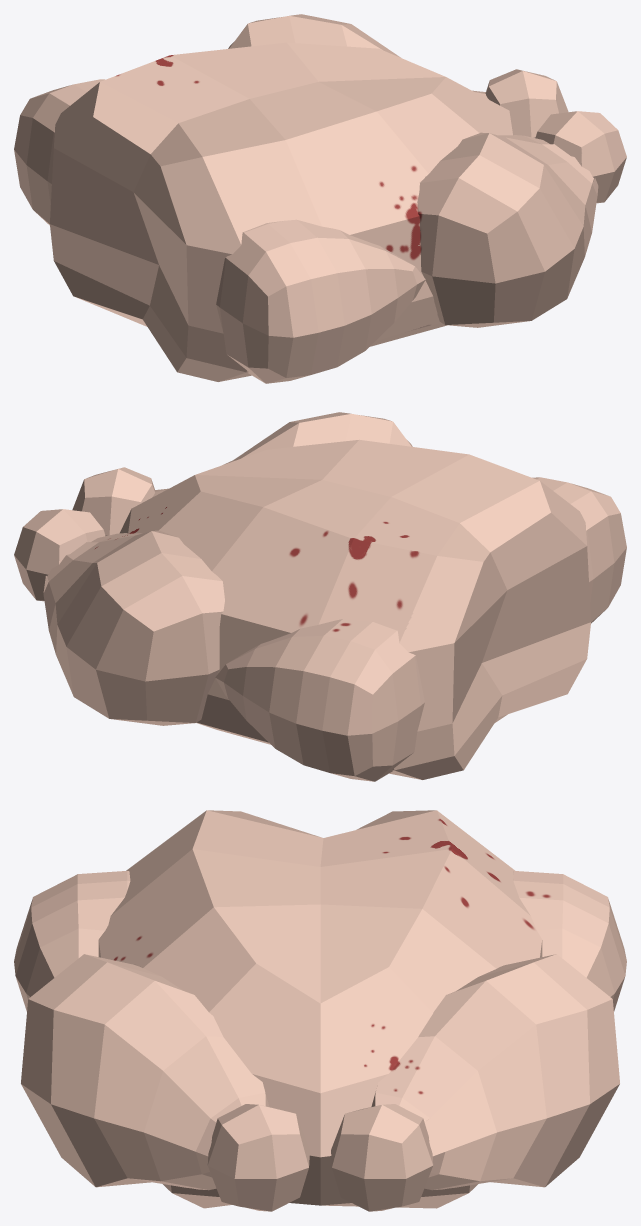
Rendered from chimken.fbx.
3 views of the same model, one above another, from view 1: azimuth 30°, elevation 25°; view 2: azimuth 150°, elevation 25°; view 3: azimuth 270°, elevation 25° (orthographic). The views are drawn at different scales.
Visible parts, largest first — view 1: Cube; view 2: Cube; view 3: Cube.
Boxes of the visible parts, bbox=[...] form: Cube: bbox=[14, 14, 626, 383]; Cube: bbox=[14, 412, 626, 781]; Cube: bbox=[14, 810, 626, 1211].
Size of the model in its own units: 356 by 158 by 359.
Materials: 1 (1 with a texture image).
